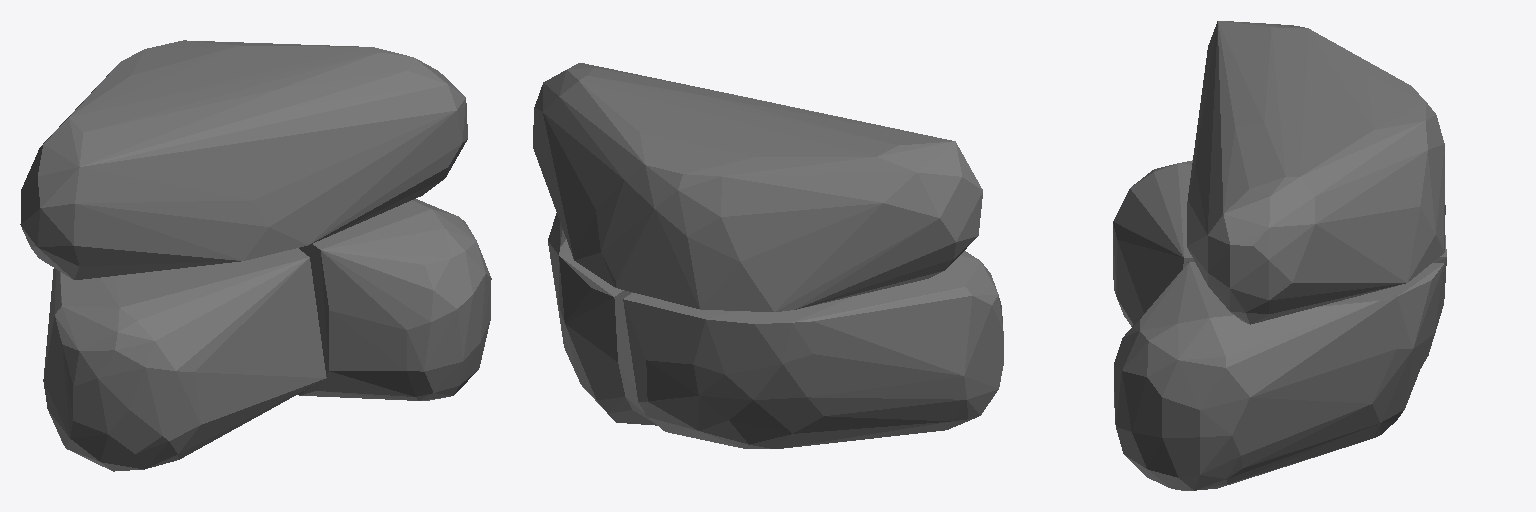
The robot description file, URDF, robot "toy_025":
<?xml version="1.0" ?>
<robot name="toy_025">
  <material name="color">
    <color rgba=".5 .5 .5 1"/>
  </material>

  <link name="base_link">
    <contact>
      <lateral_friction value="1.0"/>
      <rolling_friction value="0.001"/>
      <spinning_friction value="0.001"/>
      <inertia_scaling value="1.0"/>
    </contact>
    <inertial>
      <origin rpy="0 0 0" xyz="0.00145716 -0.00761902 0.536949"/>
       <mass value="0.1"/>
       <inertia ixx="1" ixy="0" ixz="0" iyy="1" iyz="0" izz="1"/>
    </inertial>

    <visual>
      <origin rpy="0 0 0" xyz="0 0 0"/>
      <geometry>
        <mesh filename="toy_025_vhacd_0_of_3.obj" scale="1 1 1"/>
      </geometry>
      <material name="color"/>
    </visual>
    <visual>
      <origin rpy="0 0 0" xyz="0 0 0"/>
      <geometry>
        <mesh filename="toy_025_vhacd_1_of_3.obj" scale="1 1 1"/>
      </geometry>
      <material name="color"/>
    </visual>
    <visual>
      <origin rpy="0 0 0" xyz="0 0 0"/>
      <geometry>
        <mesh filename="toy_025_vhacd_2_of_3.obj" scale="1 1 1"/>
      </geometry>
      <material name="color"/>
    </visual>

    <collision>
      <origin rpy="0 0 0" xyz="0 0 0"/>
      <geometry>
        <mesh filename="toy_025_vhacd_0_of_3.obj" scale="1 1 1"/>
      </geometry>
    </collision>
    <collision>
      <origin rpy="0 0 0" xyz="0 0 0"/>
      <geometry>
        <mesh filename="toy_025_vhacd_1_of_3.obj" scale="1 1 1"/>
      </geometry>
    </collision>
    <collision>
      <origin rpy="0 0 0" xyz="0 0 0"/>
      <geometry>
        <mesh filename="toy_025_vhacd_2_of_3.obj" scale="1 1 1"/>
      </geometry>
    </collision>

  </link>
</robot>

--- Facts derived from the render (not from the file) ---
3 views of the same robot in one strip: view 1: azimuth 30°, elevation 25°; view 2: azimuth 150°, elevation 25°; view 3: azimuth 270°, elevation 25° (orthographic).
Model toy_025 with 1 links and 0 joints (none), rooted at base_link, posed all joints at 0.
Links seen in each view (by area): view 1: base_link; view 2: base_link; view 3: base_link.
Link boxes in pixels (x1=…): base_link: x1=20, y1=40, x2=491, y2=471; base_link: x1=533, y1=63, x2=1003, y2=448; base_link: x1=1113, y1=21, x2=1446, y2=490.
Bounding box of the posed robot: 0.1734 × 0.1152 × 0.1186 m (x, y, z).
3 mesh visuals loaded from 3 distinct referenced files (3 OBJ).